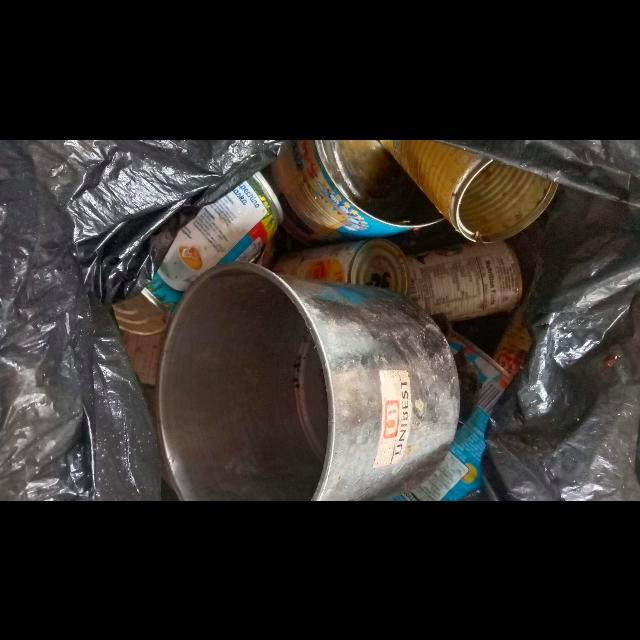aluminum: (155, 262, 461, 501), (112, 172, 282, 336), (391, 312, 513, 501), (260, 139, 447, 246), (385, 139, 558, 244), (407, 241, 527, 323), (264, 239, 422, 298)
